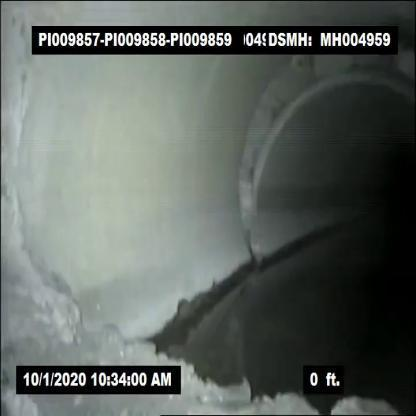Joint offset: (257, 59, 412, 113), (236, 117, 282, 243)
